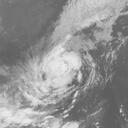cyclone: (27, 39, 83, 102)
